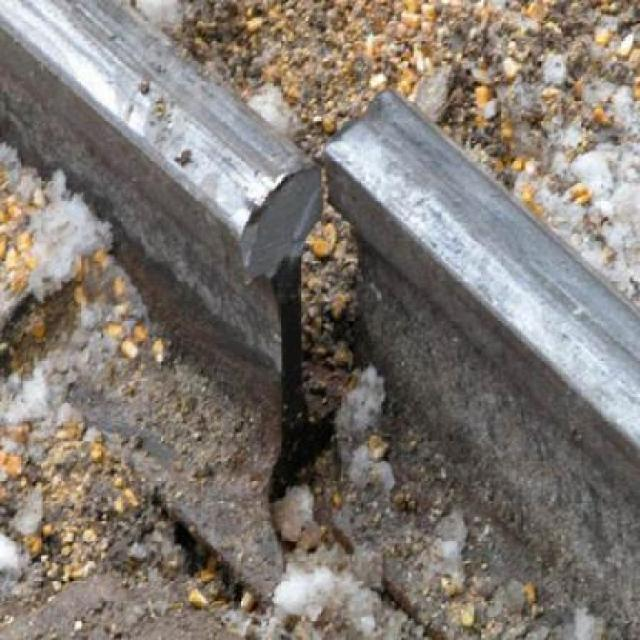defective: (105, 28, 503, 640)
